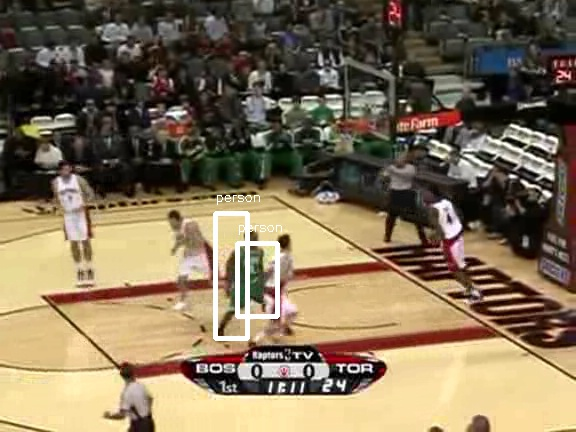person: (234, 235, 268, 316), (233, 235, 267, 316), (235, 235, 269, 316), (234, 234, 268, 315), (234, 236, 268, 317)
target_negative: (282, 3, 352, 344), (5, 371, 408, 413), (411, 219, 454, 389), (425, 403, 554, 431), (287, 372, 364, 410), (465, 393, 490, 431)
